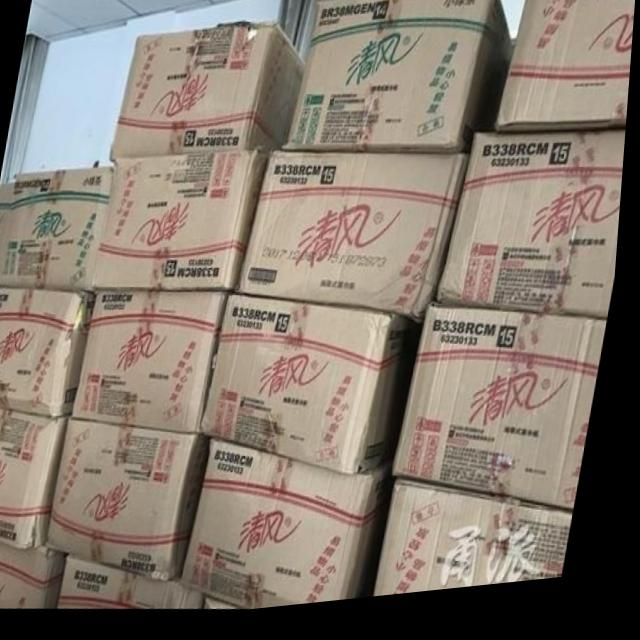box: (399, 313, 611, 524), (204, 298, 426, 484), (241, 156, 469, 333), (290, 0, 516, 167), (187, 444, 399, 614), (441, 141, 629, 330), (51, 421, 211, 584), (110, 29, 306, 162), (93, 154, 269, 294), (382, 489, 580, 606), (77, 295, 230, 438), (496, 0, 637, 143), (0, 168, 114, 292), (0, 286, 100, 421), (0, 409, 73, 549), (67, 558, 211, 612), (0, 536, 71, 609), (0, 183, 15, 282)
